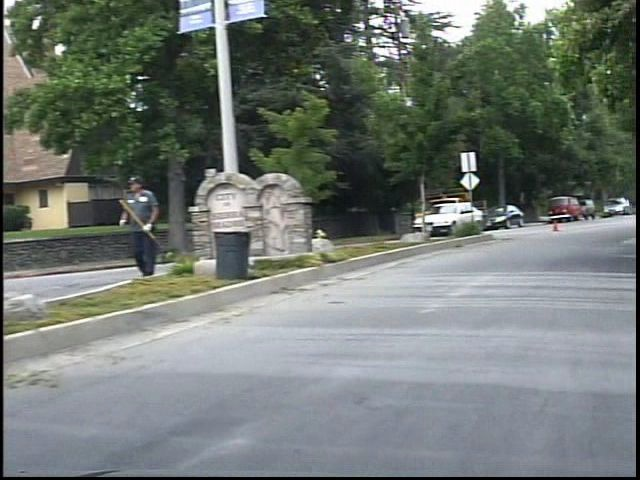person: (128, 169, 173, 280)
